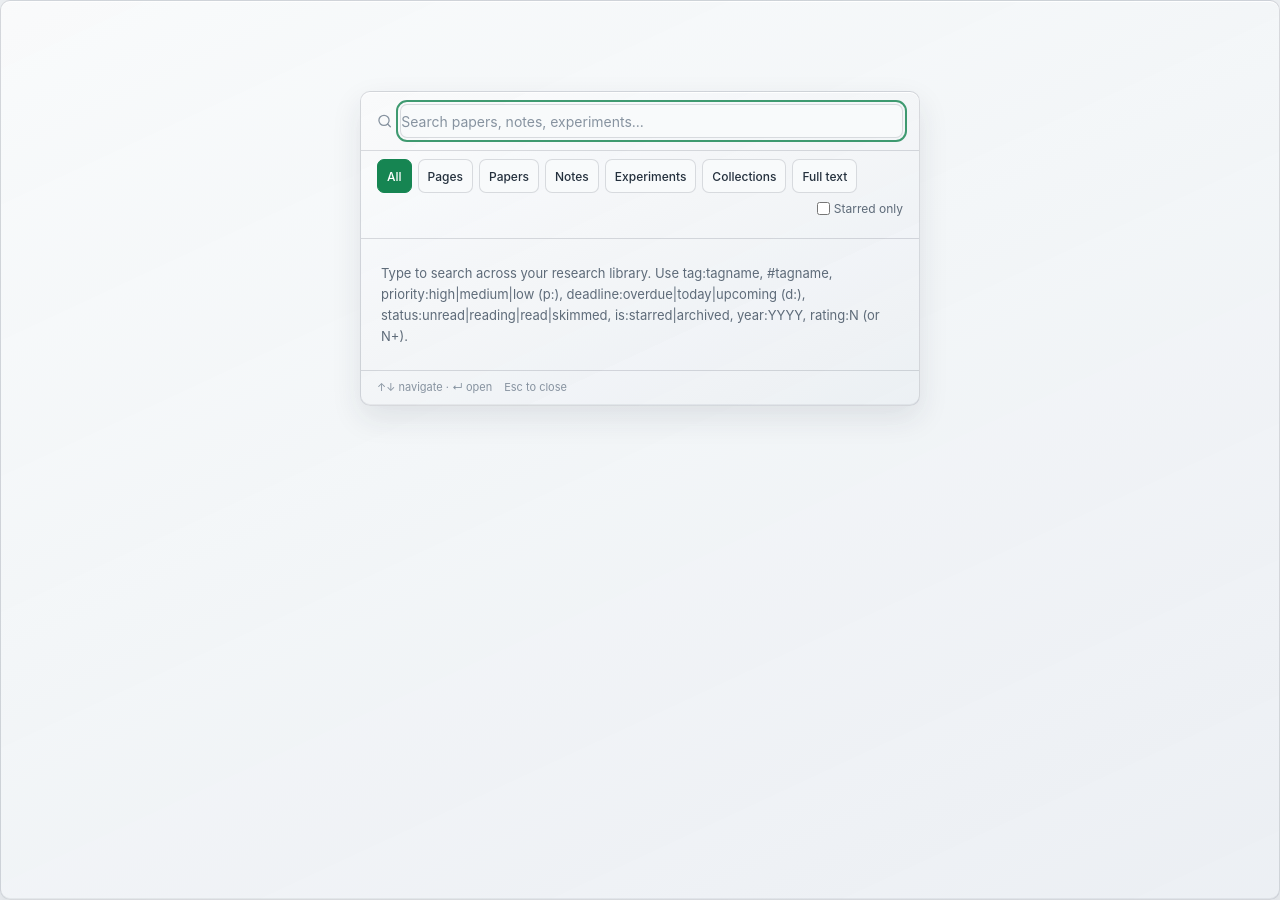
GlobalSearch › filters results to starred items only
Click the button with test id "type-filter-paper" at (509, 176), box [479,159,539,193]
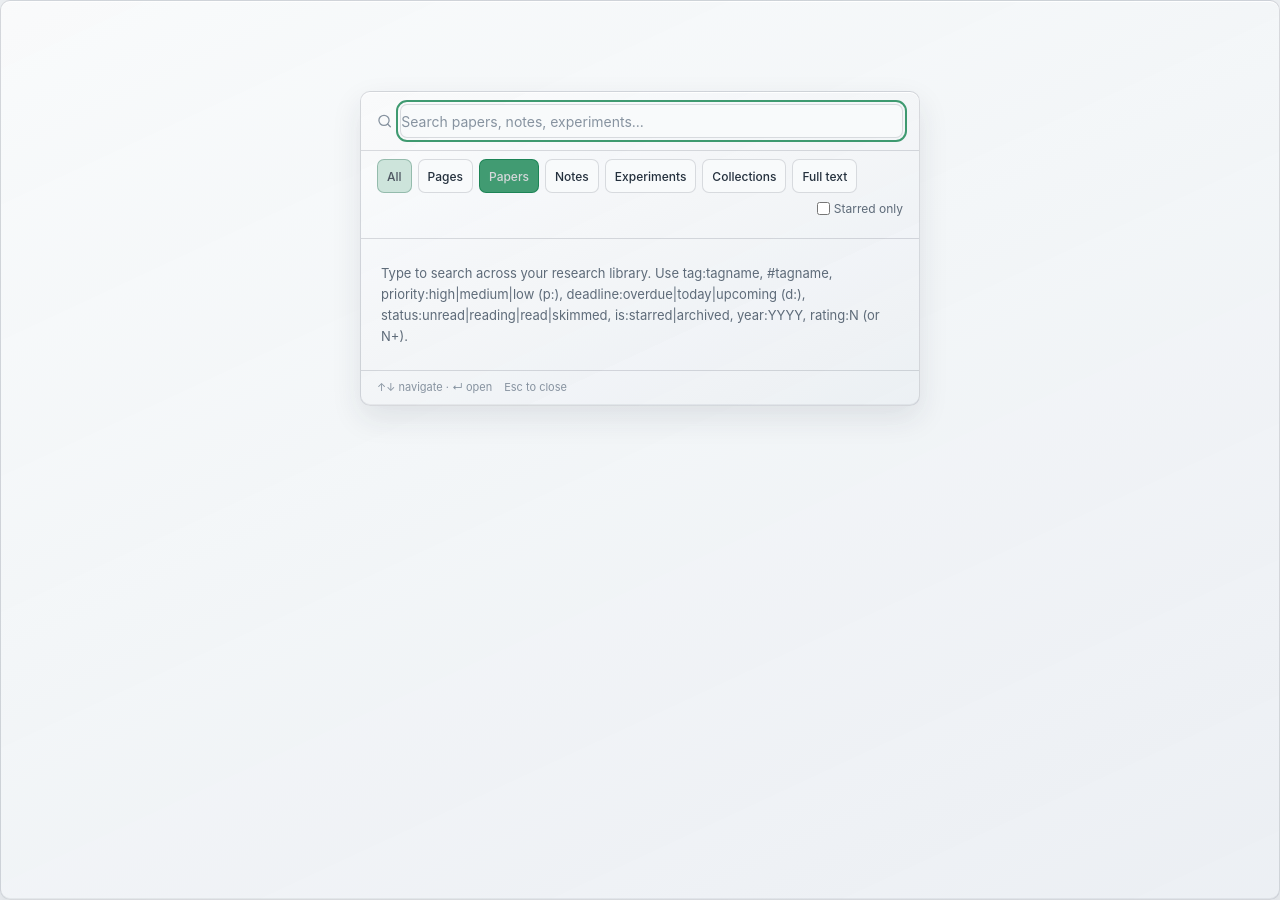
Type "paper" into the field with placeholder "Search papers, notes, experiments..." at (652, 121), box [400,104,903,138]
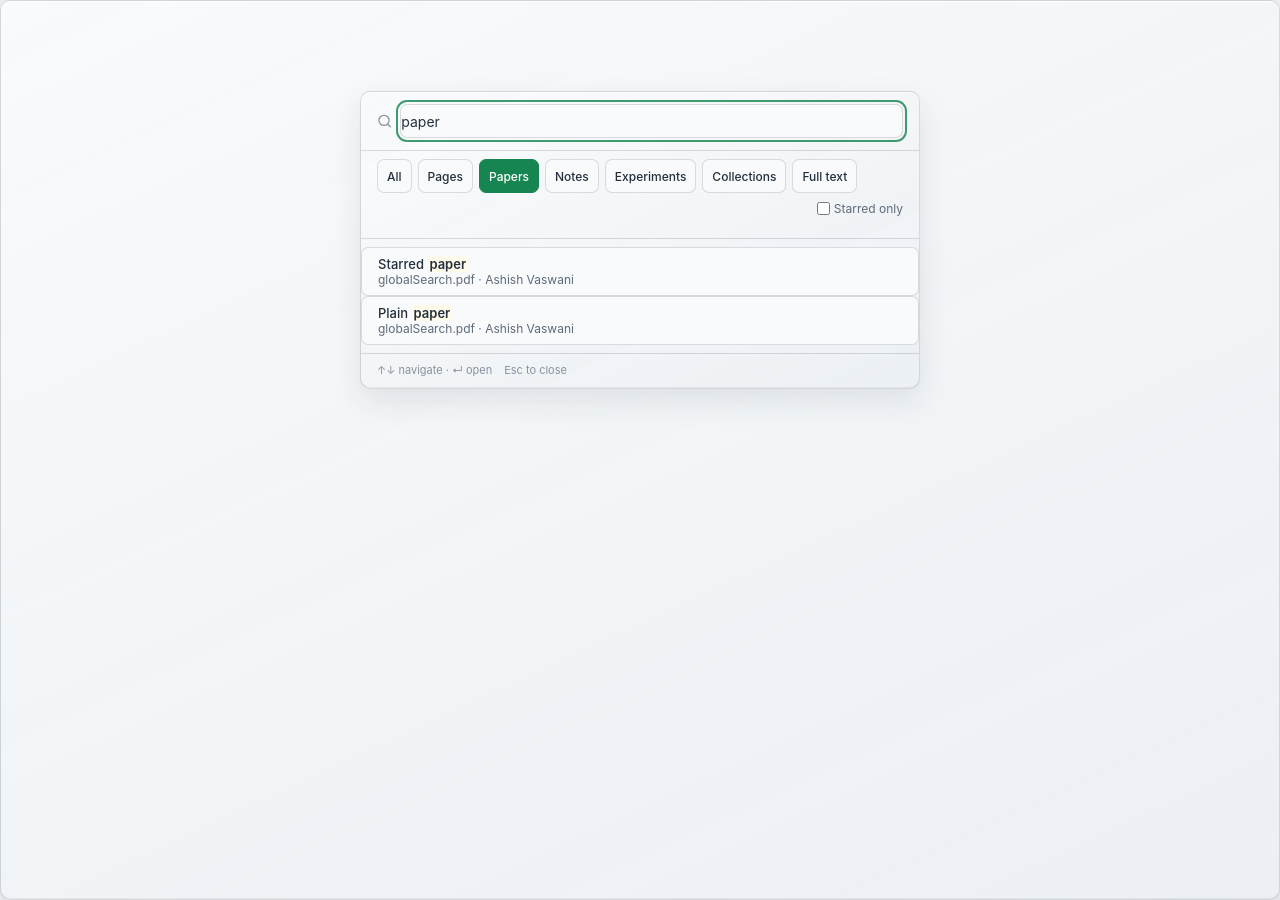
Expected: the number of buttons with test id "search-result" is 2, [361,247,919,296]; [361,296,919,345]
Click the checkbox labelled "Starred only" at (823, 209), box [817,202,830,215]
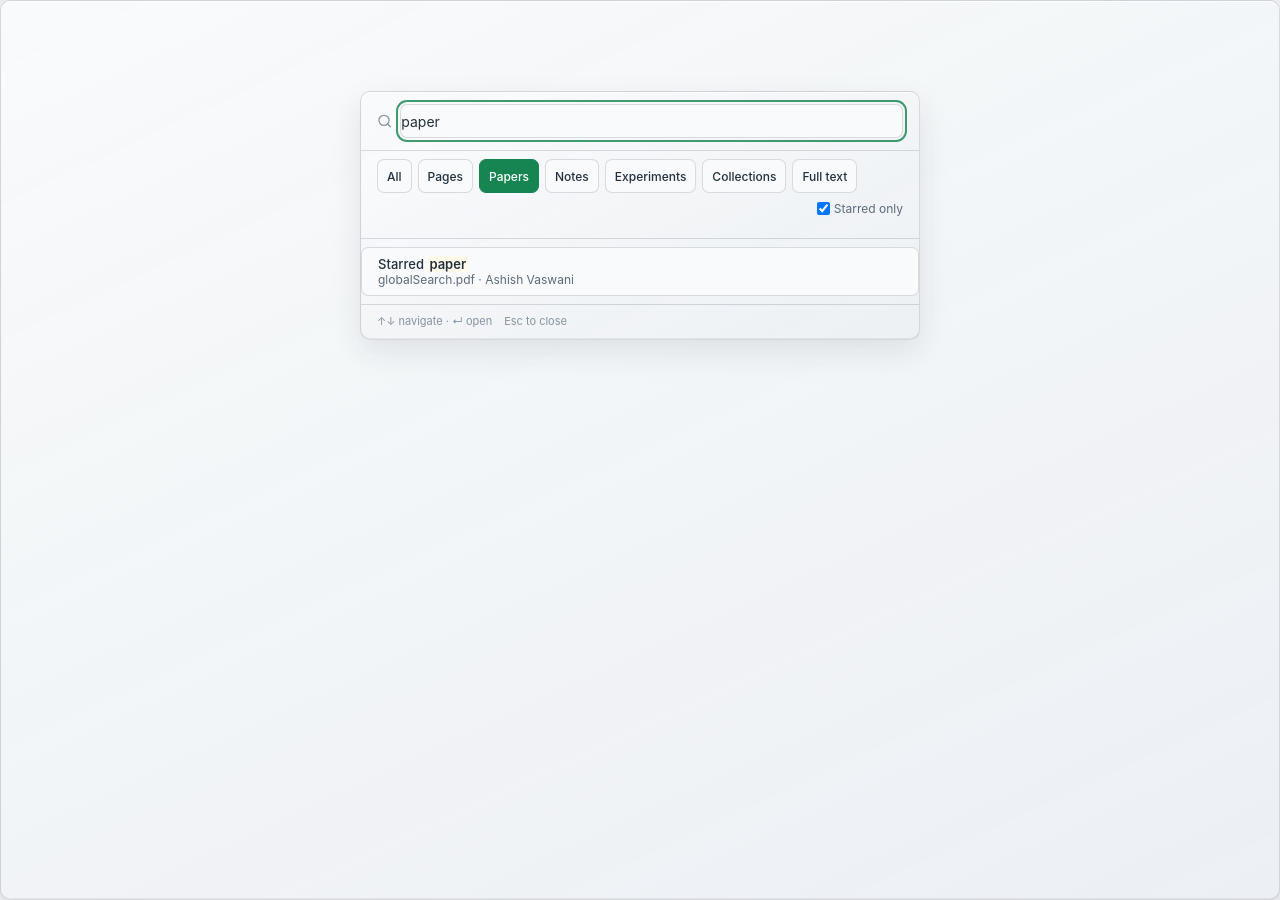
Expected: the button with test id "search-result" shows "Starred paper", [361,247,919,296]
Expected: the number of buttons with test id "search-result" is 1, [361,247,919,296]
